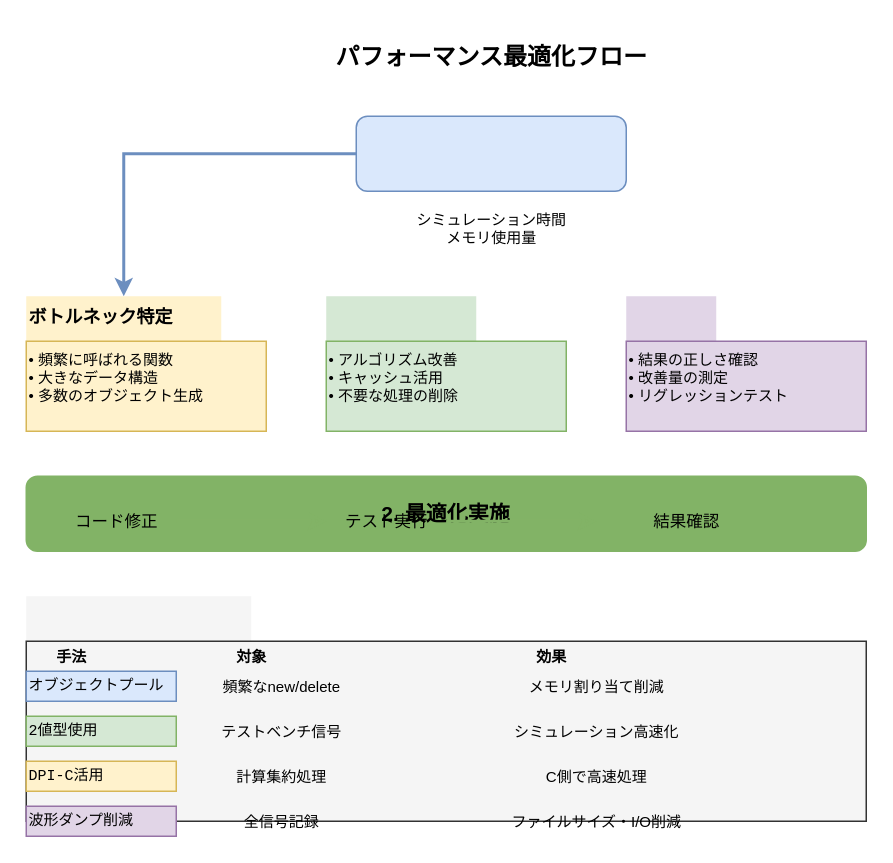
Image size: 893x863. Some labels were removed from this diagram. The shapes that lost their labels are listed below. From the top down, each one's centre as x and y in pixels, then its label:
At point 490,153: "1. 性能測定".
At point 401,318: "最適化手法".
At point 671,318: "検証".
At point 138,618: "代表的な最適化手法".
